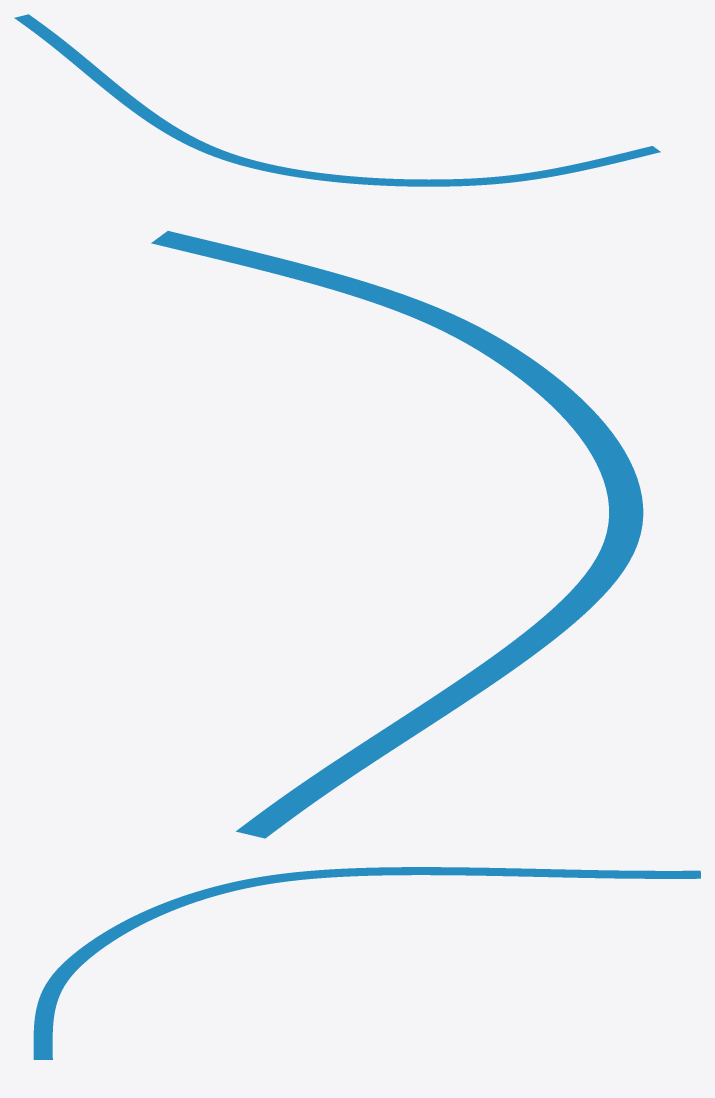
File: guide.glb
3 views of the same model, one above another, from view 1: azimuth 30°, elevation 25°; view 2: azimuth 150°, elevation 25°; view 3: azimuth 270°, elevation 25° (orthographic). The views are drawn at different scales.
Visible parts, largest first — view 1: static; view 2: static; view 3: static.
Part boxes in pixels (x1,y1,x2,y2): static: (14, 14, 660, 186); static: (151, 231, 643, 838); static: (33, 867, 700, 1059).
Size of the model in its own units: 8.61 by 0 by 11.53.
